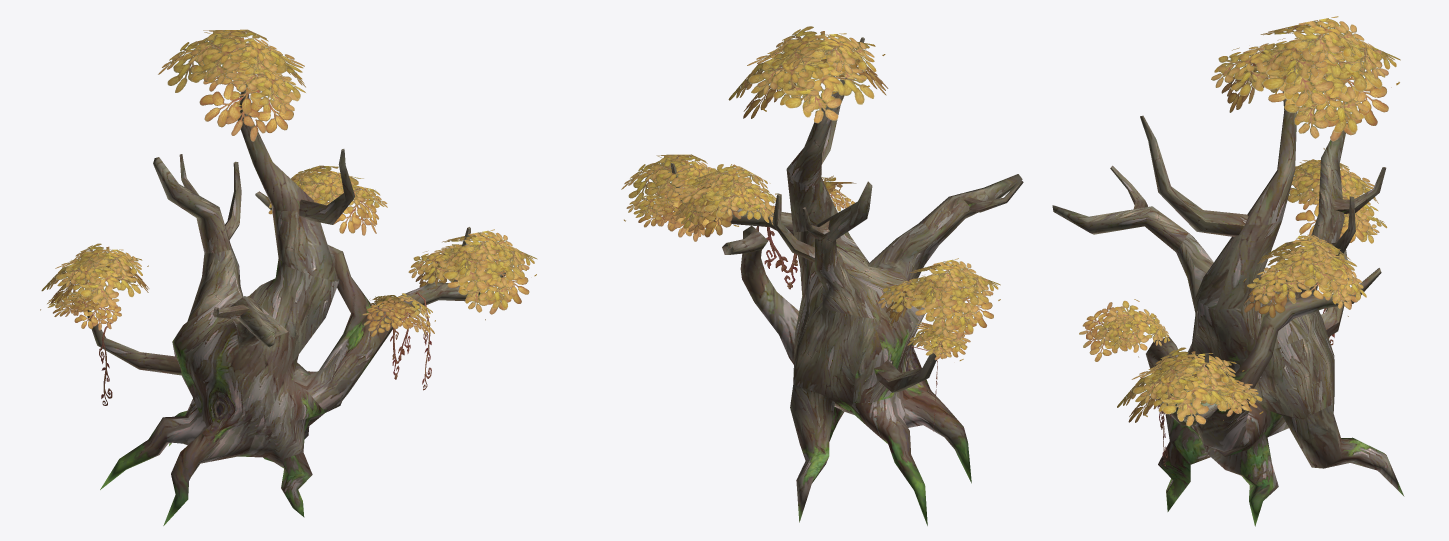
File: Map_08_tree03.FBX
3 views of the same model, side by side, from view 1: azimuth 30°, elevation 25°; view 2: azimuth 150°, elevation 25°; view 3: azimuth 270°, elevation 25° (orthographic). The views are drawn at different scales.
Visible parts, largest first — view 1: Map_08_tree03b, Map_08_tree03a; view 2: Map_08_tree03b, Map_08_tree03a; view 3: Map_08_tree03b, Map_08_tree03a.
Part boxes in pixels (x1,y1,x2,y2): Map_08_tree03b: (85, 84, 505, 525); Map_08_tree03a: (40, 29, 537, 405); Map_08_tree03b: (670, 37, 1023, 525); Map_08_tree03a: (621, 26, 1000, 431); Map_08_tree03b: (1052, 91, 1404, 526); Map_08_tree03a: (1079, 16, 1400, 466).
Bounding box in the file's own units: 1068 × 1019 × 720.
Materials: 2 (2 with a texture image).
